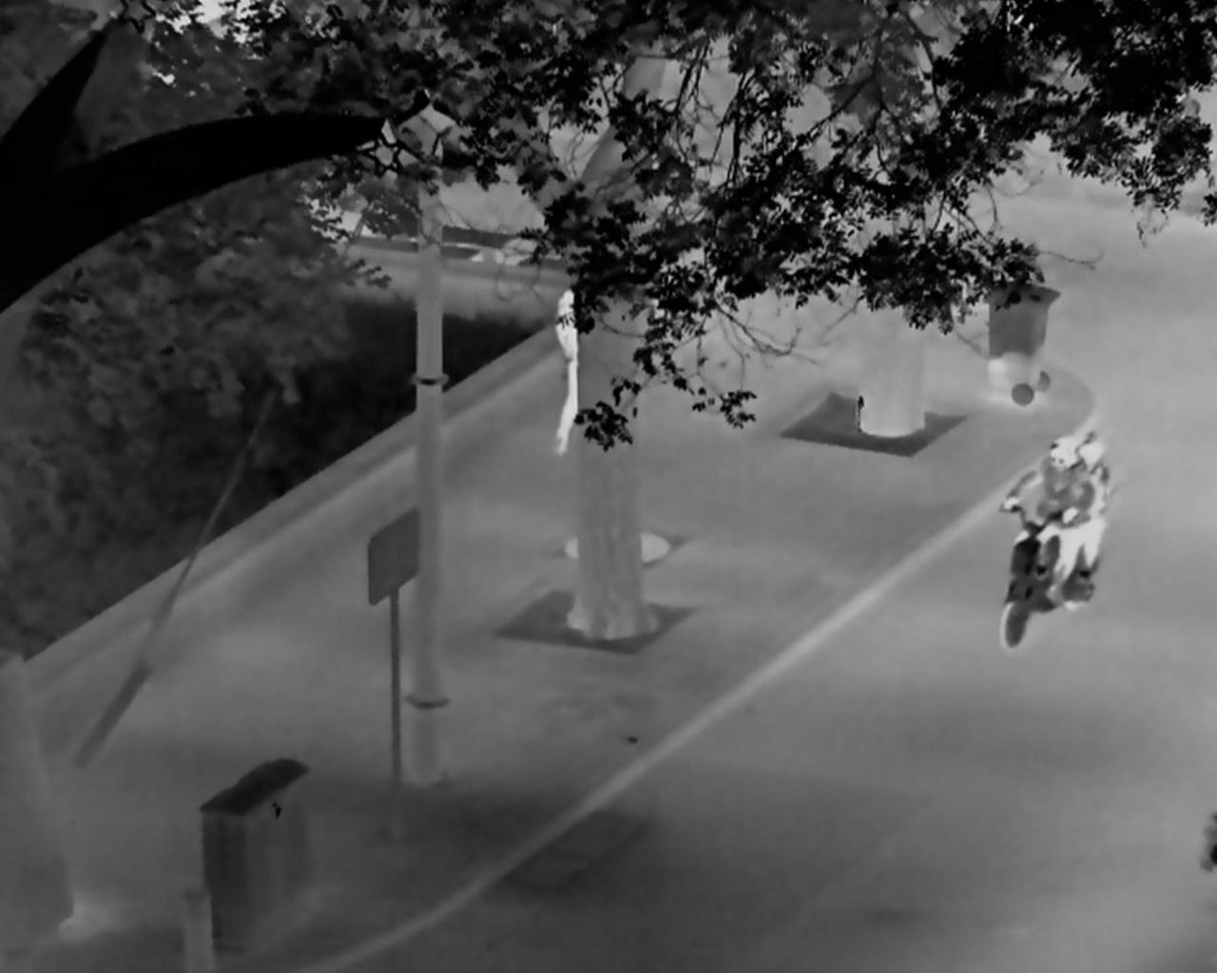person: (1002, 435, 1091, 609), (1075, 433, 1111, 579), (555, 286, 578, 457)
